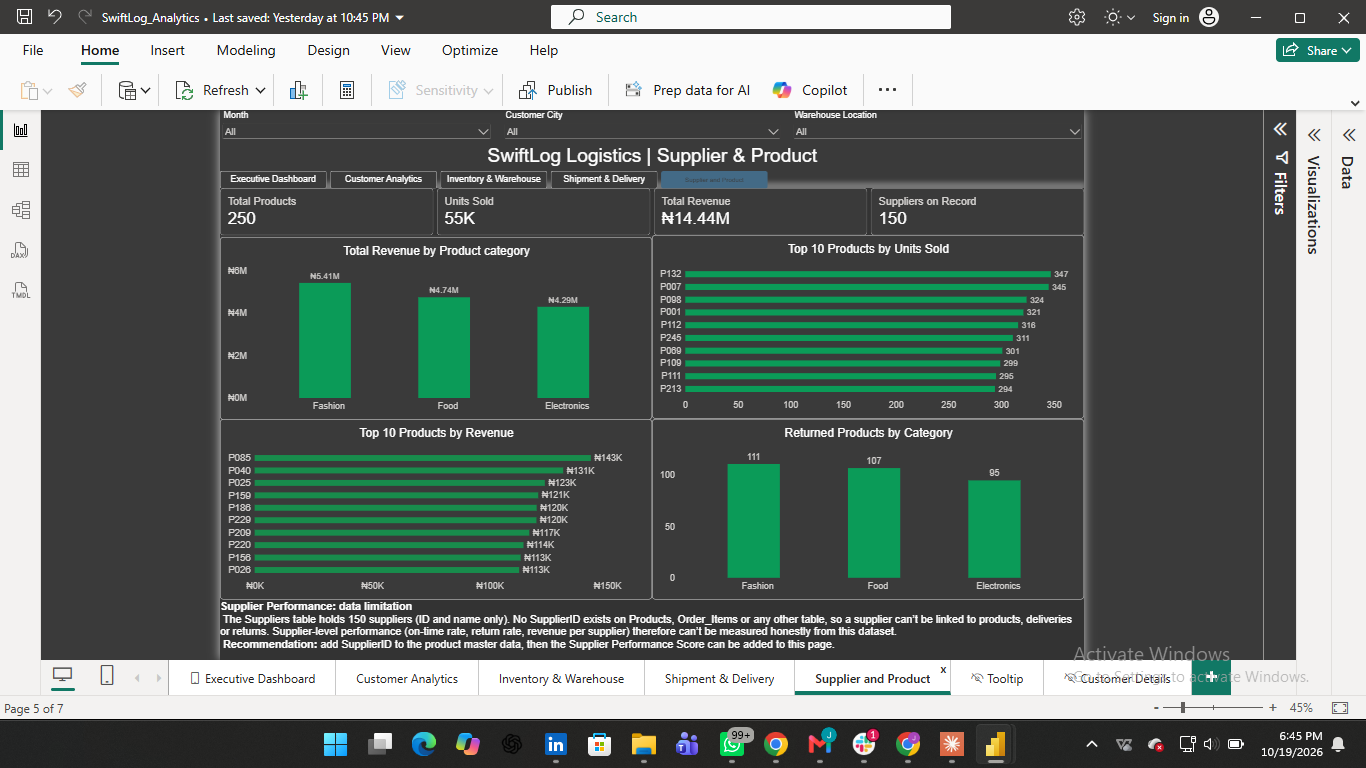

Layout of this report page (visuals, bound fields, positions):
{"tool":"powerbi","page":{"name":"Supplier and Product","canvas":[1920,1222],"ordinal":4},"visuals":[{"type":"cardVisual","fields":{"Data":["_Measures.Total Products","_Measures.Units Sold","_Measures.Total Revenue","_Measures.Suppliers on Record"]},"box":[0,173.5,1921,105.1],"z":0},{"type":"clusteredColumnChart","title":"Total Revenue by Product category","fields":{"Y":["_Measures.Total Revenue"],"Category":["SwiftLog_Products.Category"]},"box":[0,281.1,960.5,405.7],"z":1000},{"type":"clusteredBarChart","title":"Top 10 Products by Units Sold","fields":{"Category":["SwiftLog_Products.ProductID"],"Y":["_Measures.Units Sold"]},"box":[960,278.6,960,407.8],"z":2000},{"type":"clusteredColumnChart","title":"Returned Products by Category","fields":{"Y":["_Measures.Returned Orders (by Product)"],"Category":["SwiftLog_Products.Category"]},"box":[960.5,686.8,960.5,400.8],"z":3000},{"type":"clusteredBarChart","title":"Top 10 Products by Revenue","fields":{"Y":["_Measures.Total Revenue"],"Category":["SwiftLog_Products.ProductID"]},"box":[0,686.8,960.5,400.8],"z":4000},{"type":"slicer","fields":{"Values":["Date.Month"]},"box":[0,0,607,75.6],"z":5000},{"type":"slicer","fields":{"Values":["SwiftLog_Customers.City"]},"box":[626.4,0,624.2,75.6],"z":6000},{"type":"slicer","fields":{"Values":["SwiftLog_Warehouses.Location"]},"box":[1267.9,0,652.3,75.6],"z":7000},{"type":"textbox","box":[0,75.8,1921,58.7],"z":8000},{"type":"textbox","box":[0,1087.6,1921,134.4],"z":9000},{"type":"pageNavigator","box":[0,134.4,1219.6,39.1],"z":10000}]}

Visuals, with their boxes on the page's 1920x1222 design canvas (x1, y1, x2, y2). These are canvas units, not pixel positions in the 1366x768 screenshot, which may show the page scaled, cropped or inside an application window:
cardVisual - _Measures.Total Products x _Measures.Units Sold: 0 174 1921 279
"Total Revenue by Product category" clusteredColumnChart: 0 281 960 687
"Top 10 Products by Units Sold" clusteredBarChart: 960 279 1920 686
"Returned Products by Category" clusteredColumnChart: 960 687 1921 1088
"Top 10 Products by Revenue" clusteredBarChart: 0 687 960 1088
slicer - Date.Month: 0 0 607 76
slicer - SwiftLog_Customers.City: 626 0 1251 76
slicer - SwiftLog_Warehouses.Location: 1268 0 1920 76
textbox: 0 76 1921 134
textbox: 0 1088 1921 1222
pageNavigator: 0 134 1220 174
